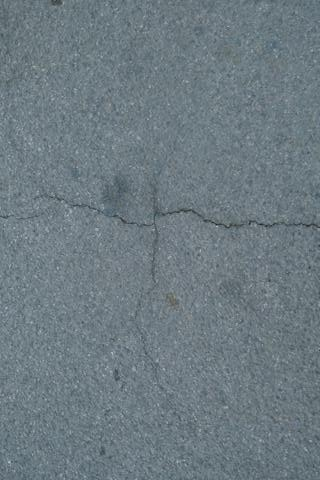A: (1, 191, 320, 234), (130, 222, 183, 436)
